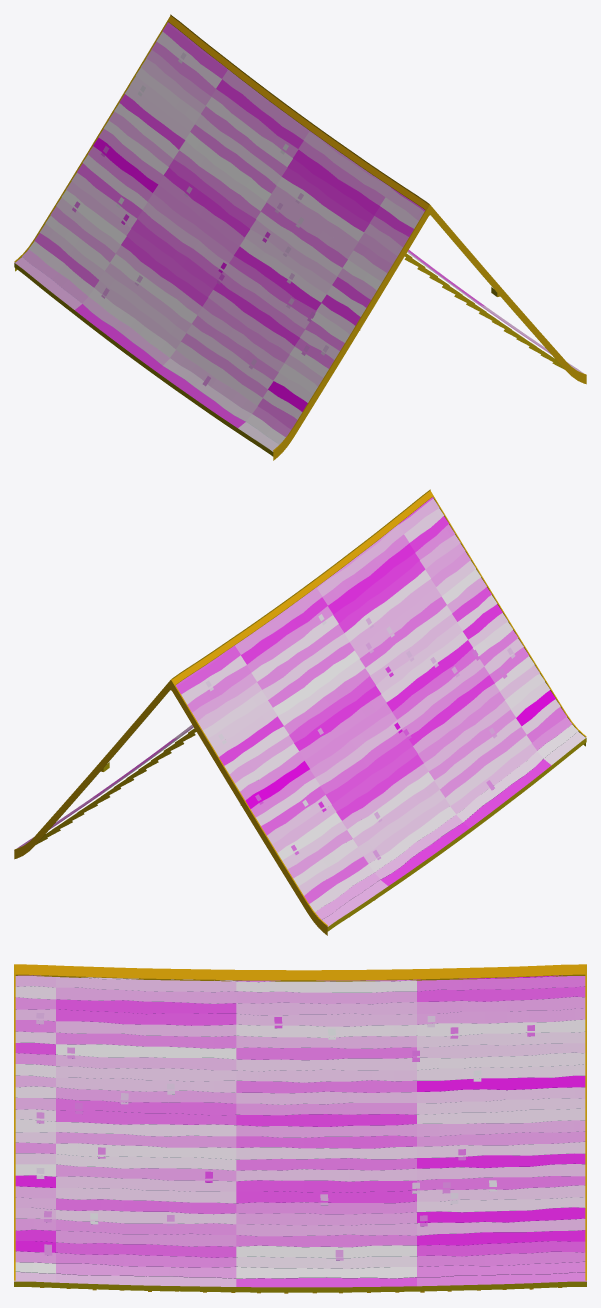
The model's file is roof_s_8x12.glb.
3 views of the same model, one above another, from view 1: azimuth 30°, elevation 25°; view 2: azimuth 150°, elevation 25°; view 3: azimuth 270°, elevation 25° (orthographic). The views are drawn at different scales.
Parts seen in each view (by area): view 1: roof_s_8x12; view 2: roof_s_8x12; view 3: roof_s_8x12.
Boxes of the visible parts, <box> form: roof_s_8x12: <box>14,14,586,460</box>; roof_s_8x12: <box>14,489,586,935</box>; roof_s_8x12: <box>14,964,586,1293</box>.
Size of the model in its own units: 8.88 by 6 by 12.7.
